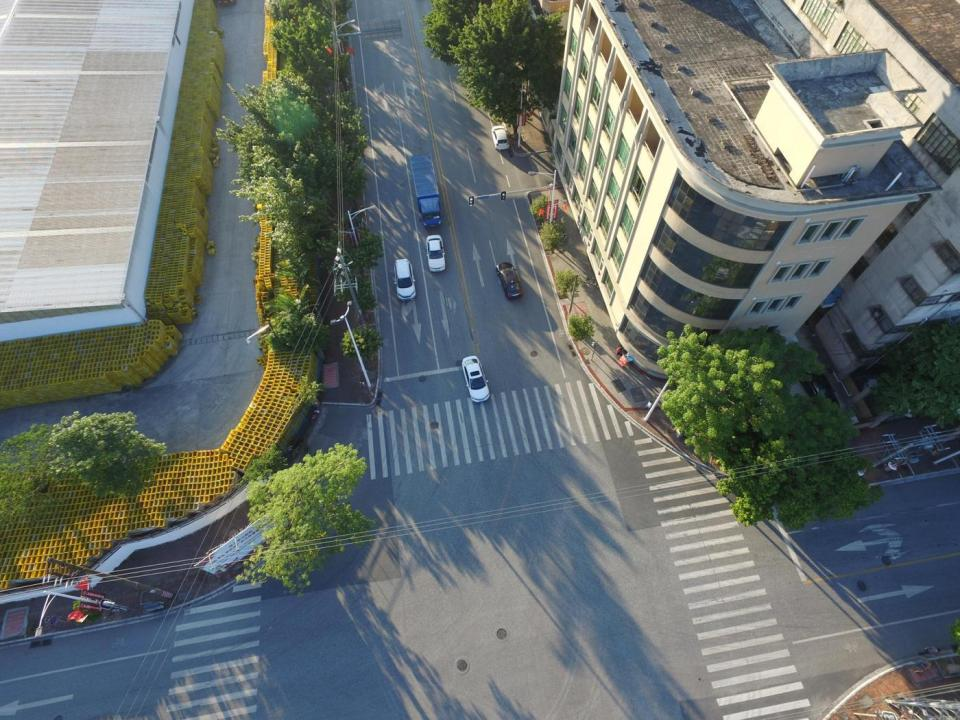car: (462, 354, 491, 404), (494, 260, 524, 299), (393, 257, 417, 302), (424, 231, 446, 272), (491, 125, 510, 151)
truck: (409, 151, 446, 228)
